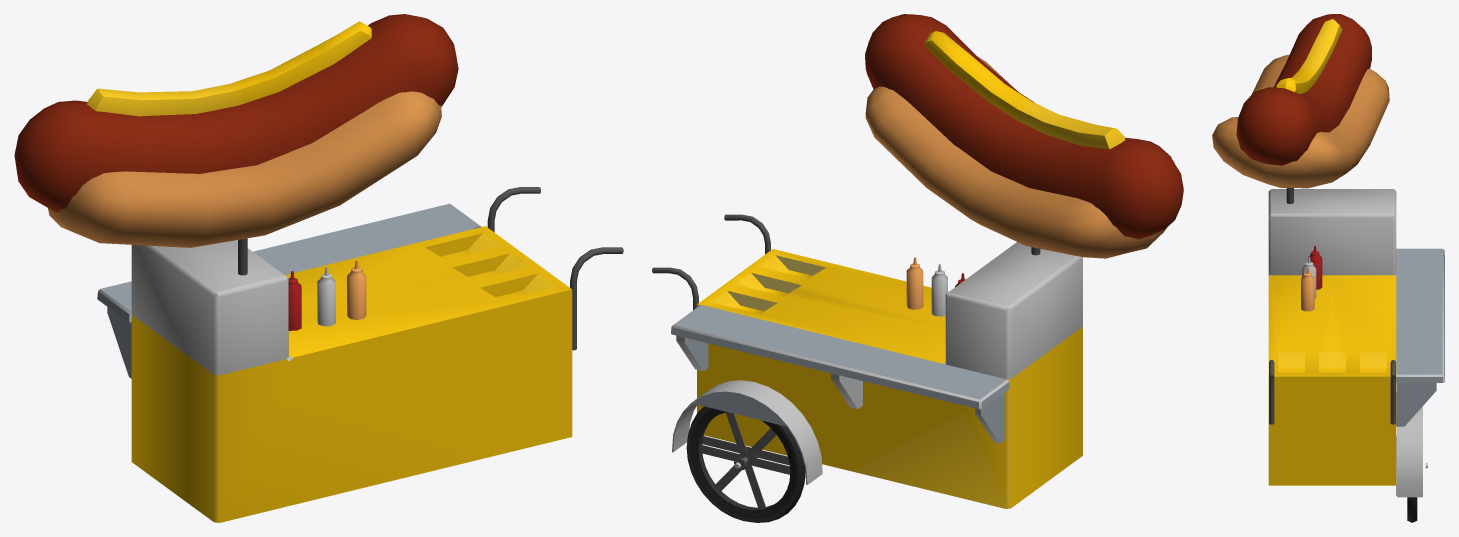
3 renders of one model, left to right at view 1: azimuth 30°, elevation 25°; view 2: azimuth 150°, elevation 25°; view 3: azimuth 270°, elevation 25°, orthographic. The views are drawn at different scales.
Visible parts, largest first — view 1: HotDog_Stand_HotDog_Stand_0.002; view 2: HotDog_Stand_HotDog_Stand_0.002; view 3: HotDog_Stand_HotDog_Stand_0.002.
Part boxes in pixels (x1,y1,x2,y2): HotDog_Stand_HotDog_Stand_0.002: (14,14,623,522); HotDog_Stand_HotDog_Stand_0.002: (652,14,1183,522); HotDog_Stand_HotDog_Stand_0.002: (1212,14,1444,522).
Bounding box in the file's own units: 319 × 290 × 156.
